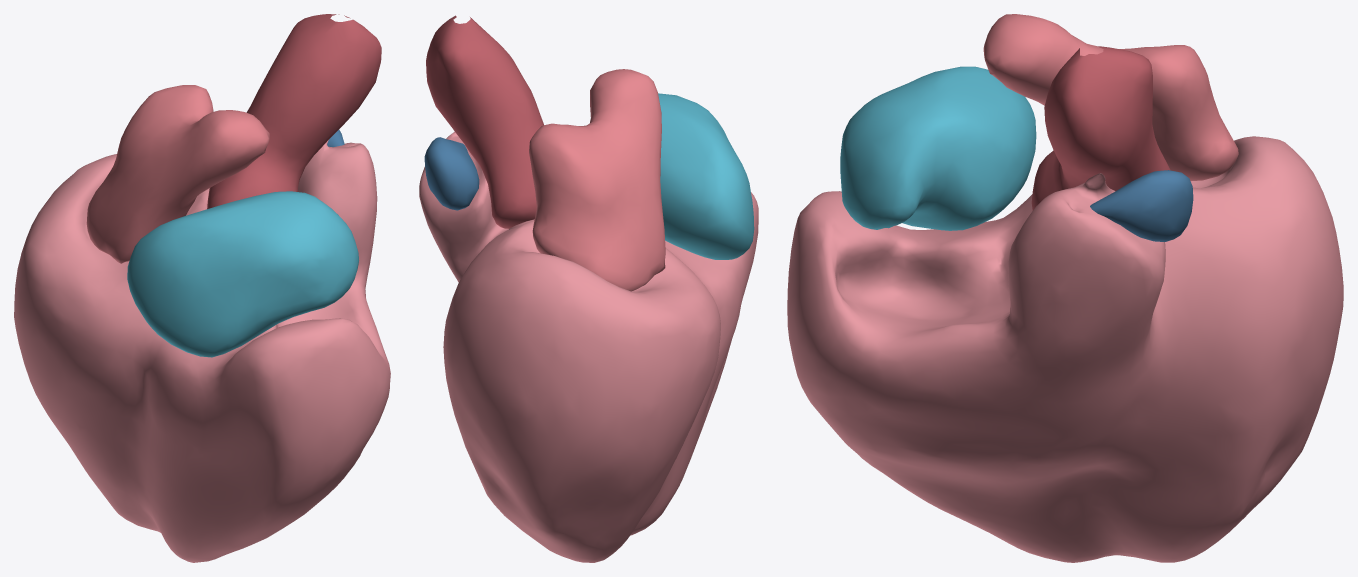
The model's file is frame_58.glb.
3 views of the same model, side by side, from view 1: azimuth 30°, elevation 25°; view 2: azimuth 150°, elevation 25°; view 3: azimuth 270°, elevation 25° (orthographic). The views are drawn at different scales.
Visible parts, largest first — view 1: Renderer Node; view 2: Renderer Node; view 3: Renderer Node.
Boxes of the visible parts, x1=… form: Renderer Node: x1=14, y1=14, x2=390, y2=562; Renderer Node: x1=419, y1=15, x2=758, y2=562; Renderer Node: x1=787, y1=14, x2=1343, y2=562.
Bounding box in the file's own units: 107 × 164 × 137.
